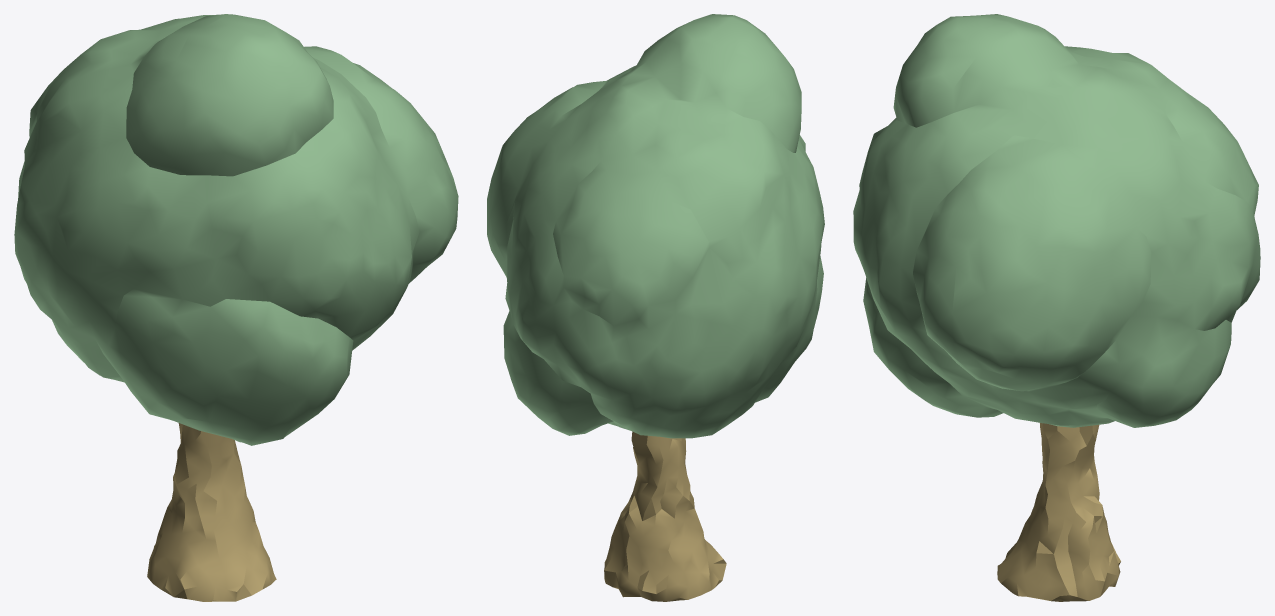
File: Tree_1.fbx
The picture shows the model from 3 angles, left to right: view 1: azimuth 30°, elevation 25°; view 2: azimuth 150°, elevation 25°; view 3: azimuth 270°, elevation 25°; orthographic projection. The views are drawn at different scales.
Visible parts, largest first — view 1: polySurface4, pCube4; view 2: polySurface4, pCube4; view 3: polySurface4, pCube4.
Boxes of the visible parts, x1=… form: polySurface4: x1=14, y1=14, x2=458, y2=445; pCube4: x1=147, y1=423, x2=276, y2=601; polySurface4: x1=487, y1=14, x2=824, y2=438; pCube4: x1=604, y1=431, x2=726, y2=601; polySurface4: x1=853, y1=14, x2=1260, y2=427; pCube4: x1=997, y1=423, x2=1120, y2=601.
Size of the model in its own units: 4.87 by 7.45 by 4.97.
